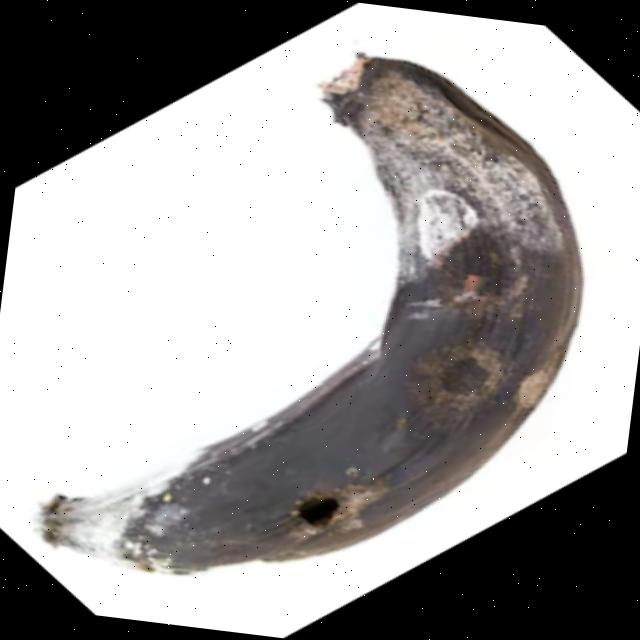Rotten: (31, 22, 610, 622)
